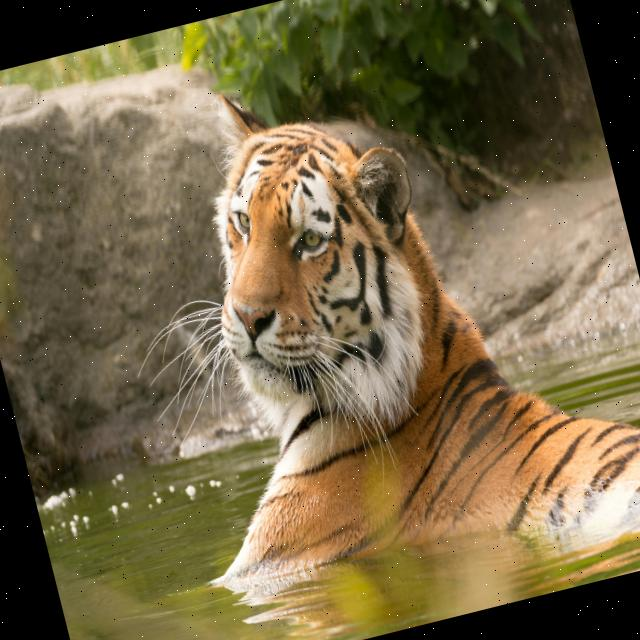Tiger: (101, 1, 640, 640)
